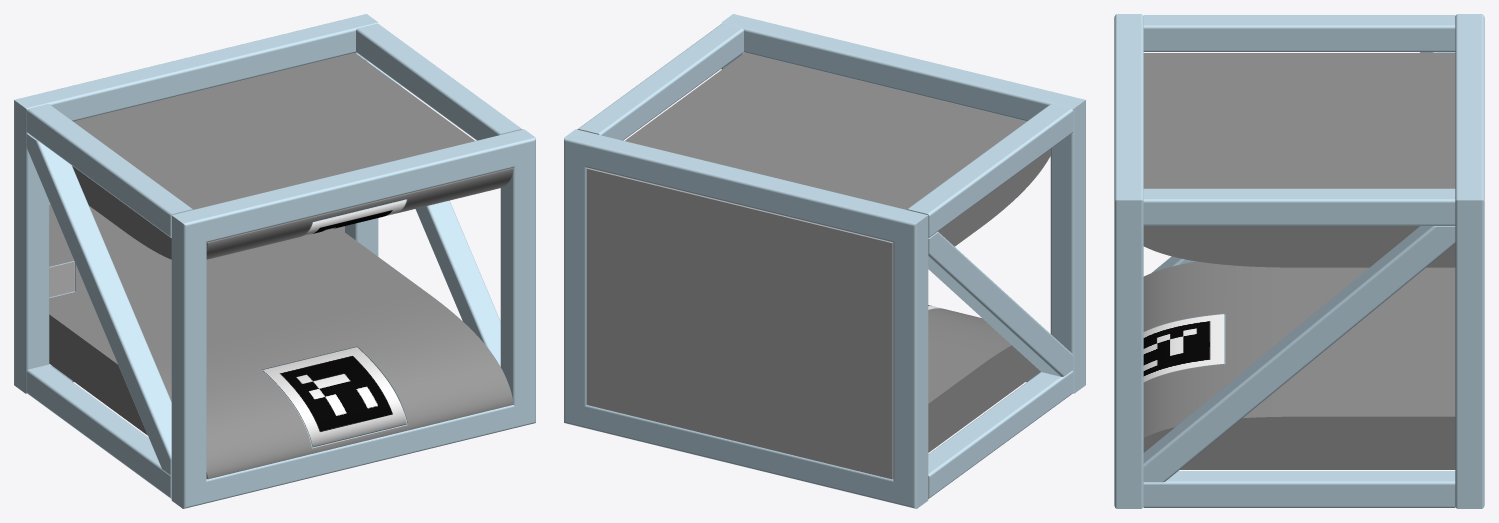
Rendered from dock_station.dae.
3 views of the same model, side by side, from view 1: azimuth 30°, elevation 25°; view 2: azimuth 150°, elevation 25°; view 3: azimuth 270°, elevation 25° (orthographic). The views are drawn at different scales.
Visible parts, largest first — view 1: mesh77.001, mesh78.001, mesh75, mesh94, mesh46, mesh46.001, mesh46.003, mesh60.001, mesh10, mesh10.002, mesh100, mesh76 (+33 smaller); view 2: mesh99, mesh77.001, mesh48.001, mesh48.003, mesh48.002, mesh12.003, mesh12, mesh76, mesh49.001, mesh49.003, mesh12.002, mesh58.001 (+25 smaller); view 3: mesh77.001, mesh75, mesh78.001, mesh74.001, mesh76.001, mesh57, mesh13.002, mesh13, mesh24.003, mesh24.002, mesh22, mesh49.003 (+22 smaller).
Boxes of the visible parts, bbox=[...] form: mesh77.001: bbox=[73, 52, 512, 242]; mesh78.001: bbox=[154, 294, 513, 479]; mesh75: bbox=[49, 232, 428, 364]; mesh94: bbox=[263, 347, 406, 446]; mesh46: bbox=[187, 407, 533, 506]; mesh46.001: bbox=[187, 141, 533, 241]; mesh46.003: bbox=[51, 31, 355, 120]; mesh60.001: bbox=[40, 142, 171, 454]; mesh10: bbox=[515, 141, 534, 421]; mesh10.002: bbox=[186, 227, 205, 505]; mesh100: bbox=[49, 204, 344, 304]; mesh76: bbox=[49, 314, 207, 478]; mesh99: bbox=[586, 169, 892, 479]; mesh77.001: bbox=[625, 52, 1026, 209]; mesh48.001: bbox=[566, 407, 912, 506]; mesh48.003: bbox=[566, 141, 912, 241]; mesh48.002: bbox=[744, 31, 1048, 120]; mesh12.003: bbox=[565, 141, 584, 421]; mesh12: bbox=[894, 227, 913, 505]; mesh76: bbox=[928, 345, 1039, 452]; mesh49.001: bbox=[722, 14, 1084, 107]; mesh49.003: bbox=[565, 129, 927, 223]; mesh12.002: bbox=[1052, 134, 1070, 351]; mesh58.001: bbox=[929, 233, 1073, 375]; mesh77.001: bbox=[1143, 53, 1455, 188]; mesh75: bbox=[1296, 267, 1455, 416]; mesh78.001: bbox=[1143, 261, 1296, 437]; mesh74.001: bbox=[1143, 416, 1455, 469]; mesh76.001: bbox=[1143, 226, 1455, 267]; mesh57: bbox=[1143, 226, 1455, 482]; mesh13.002: bbox=[1117, 200, 1140, 508]; mesh13: bbox=[1458, 200, 1481, 508]; mesh24.003: bbox=[1143, 29, 1455, 50]; mesh24.002: bbox=[1143, 485, 1455, 506]; mesh22: bbox=[1143, 203, 1455, 223]; mesh49.003: bbox=[1458, 14, 1481, 200].
Bounding box in the file's own units: 0.75 × 0.63 × 0.58.
